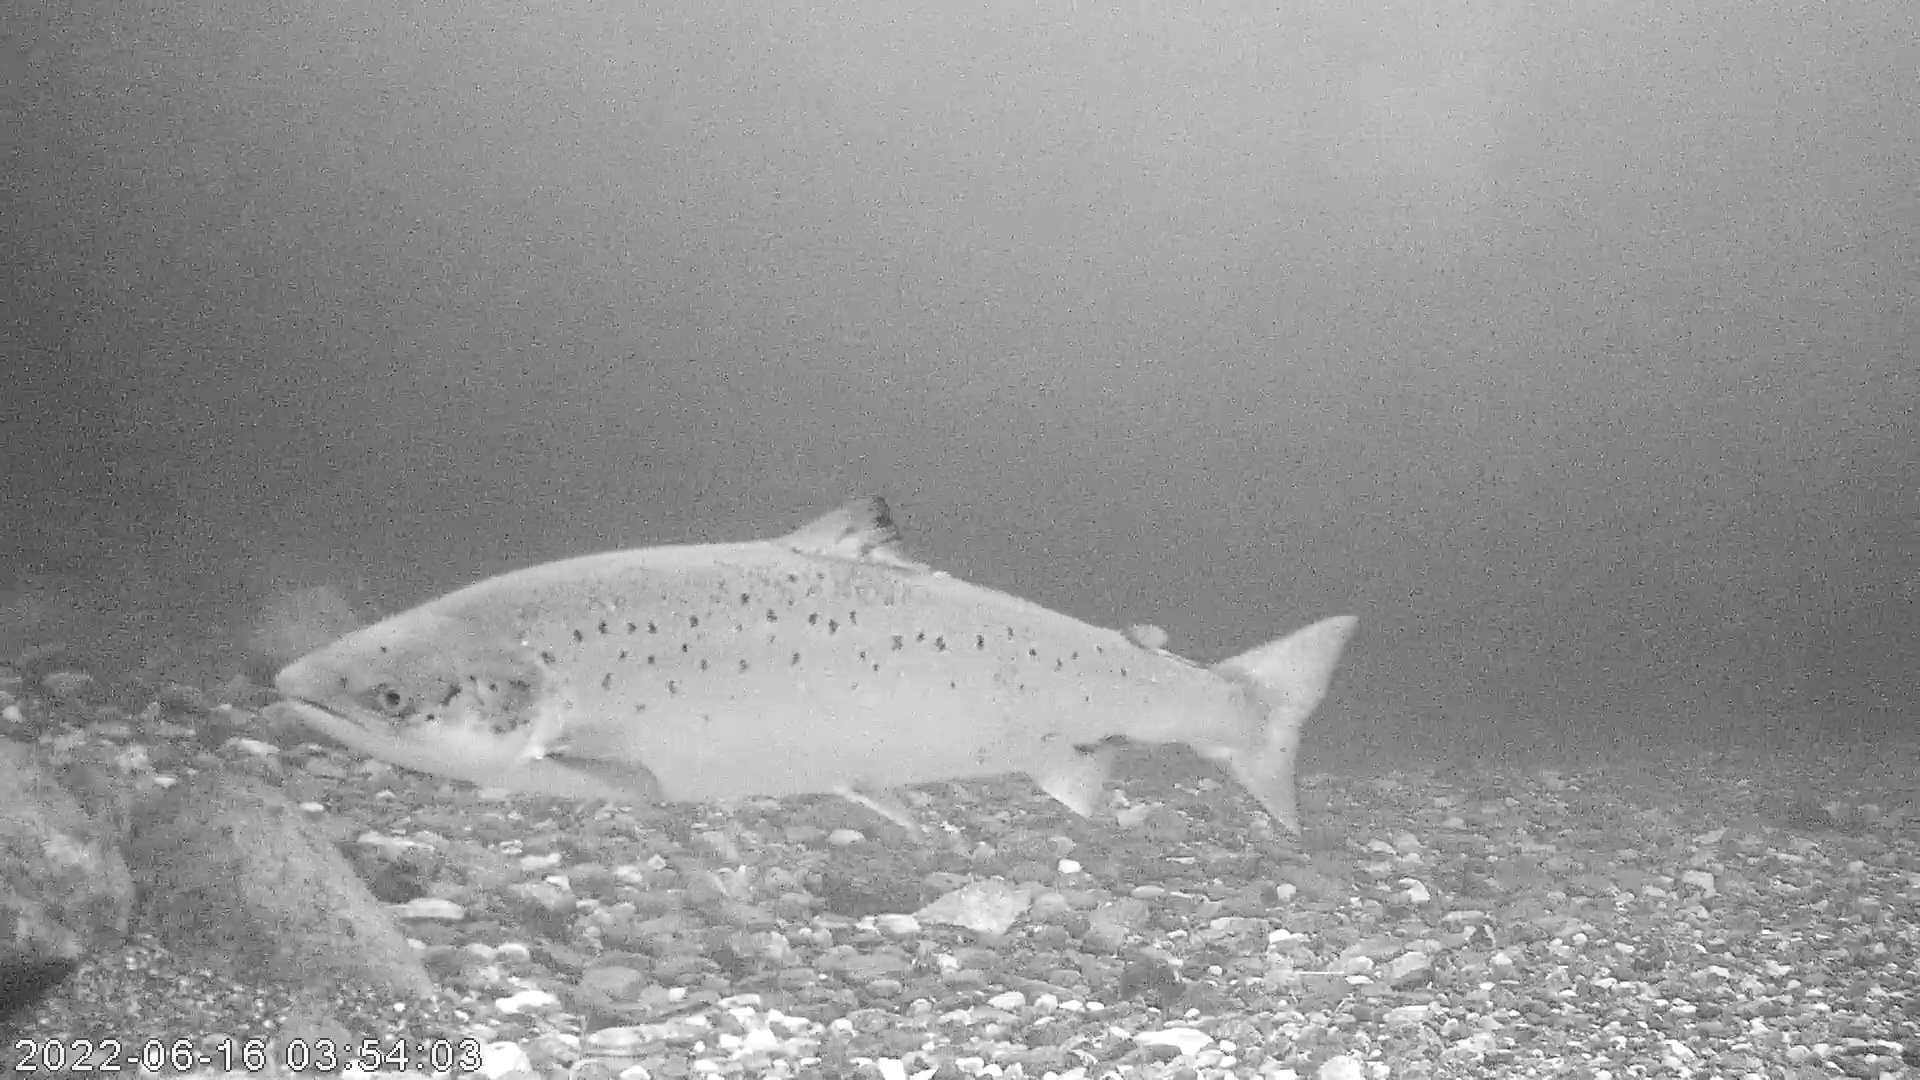salmon: (269, 491, 1361, 843)
